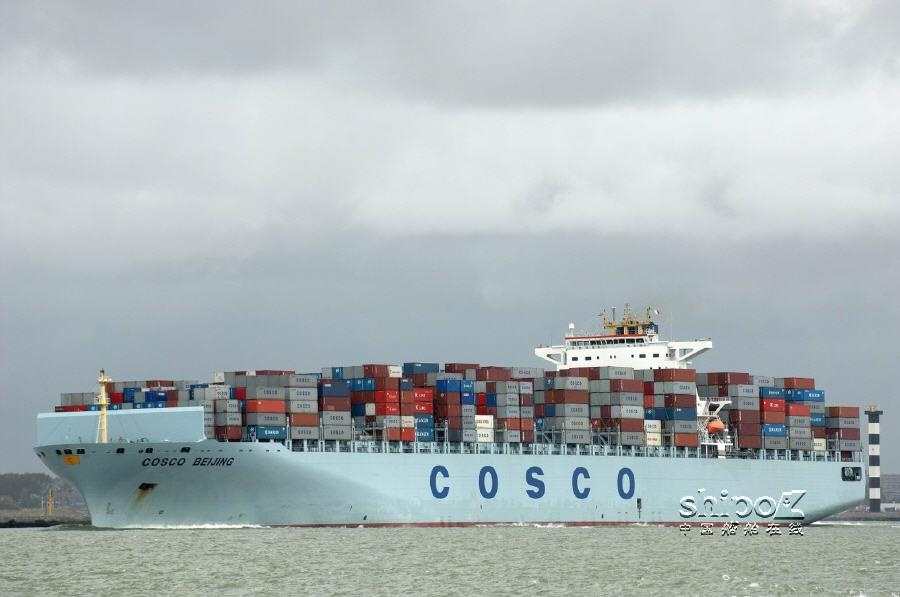Cargoship: (28, 302, 884, 532)
